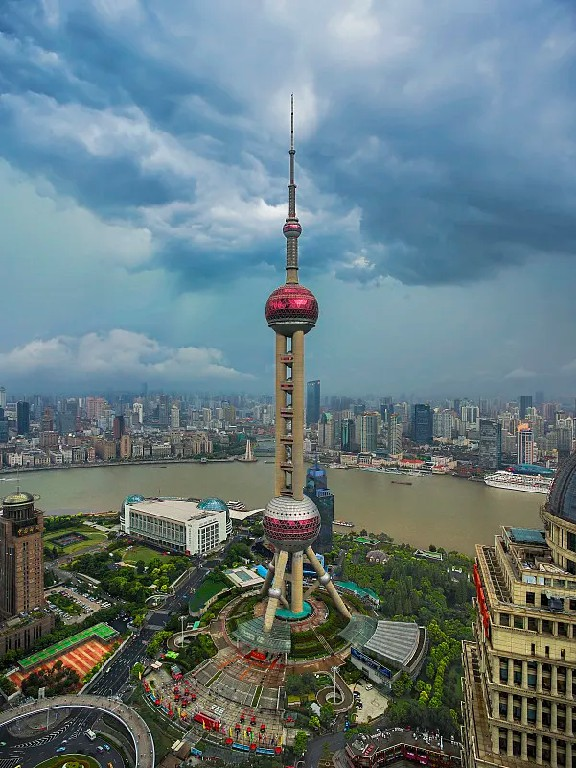Oriental: (258, 94, 351, 630)
